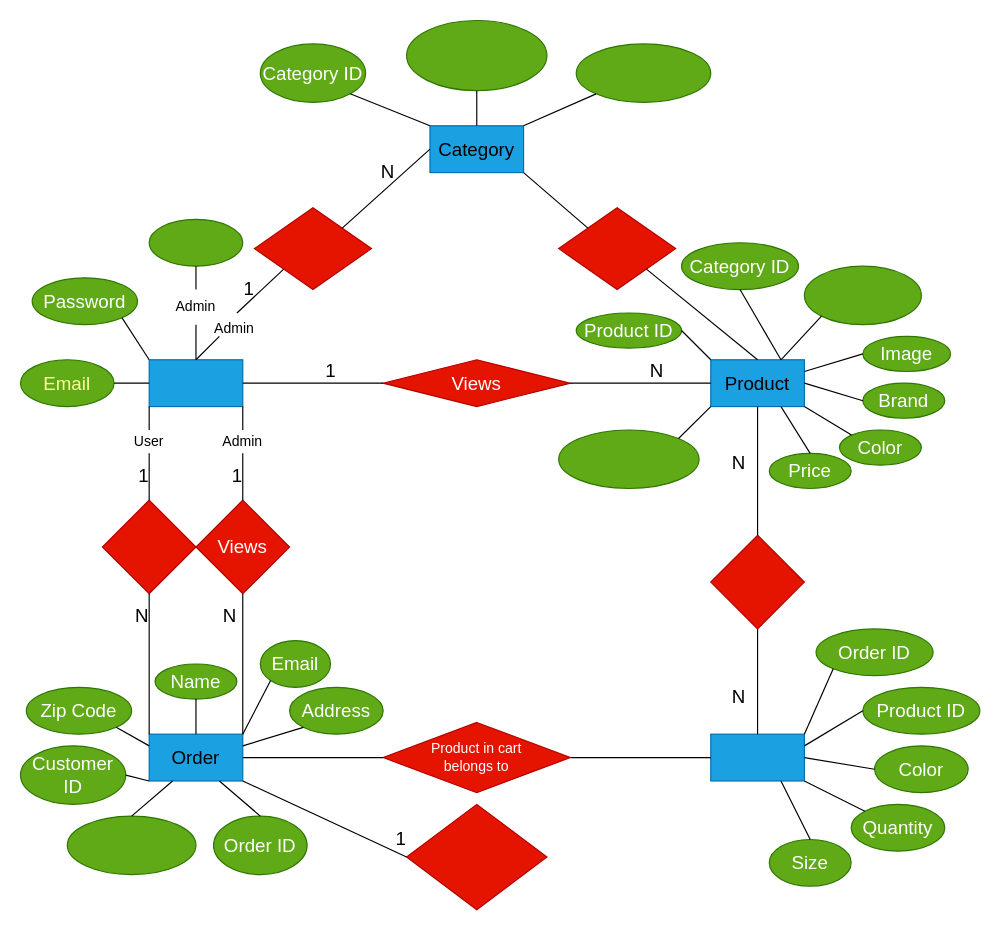
Image size: 1000x930. Some labels were removed from this diagram. The centre of each missing label's shape, as x and y in pixels:
"Added To" goes at point (757, 581).
"Adds" goes at point (312, 248).
"Belongs to" goes at point (617, 248).
"Cart" goes at point (757, 757).
"Category Description" goes at point (643, 72).
"Category Name" goes at point (476, 55).
"Check Out" goes at point (476, 856).
"Login" goes at point (195, 383).
"Phone number" goes at point (131, 845).
"Place" goes at point (148, 546).
"Product Description" goes at point (628, 458).
"Product Name" goes at point (862, 295).
"Role" goes at point (195, 242).
